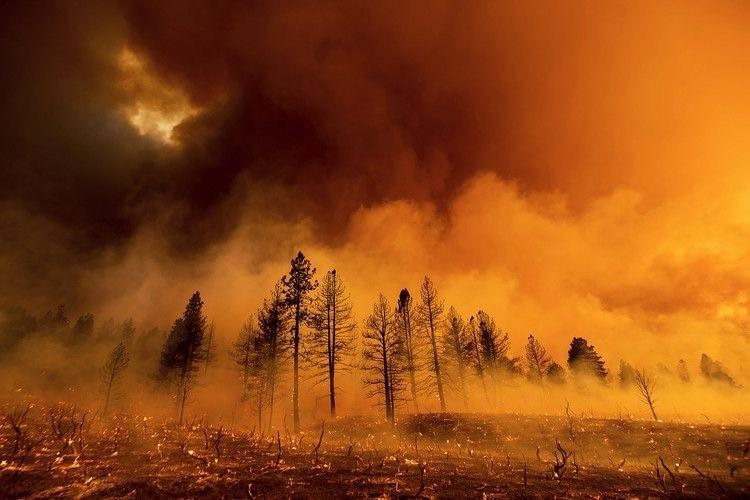smoke: (0, 197, 746, 466)
